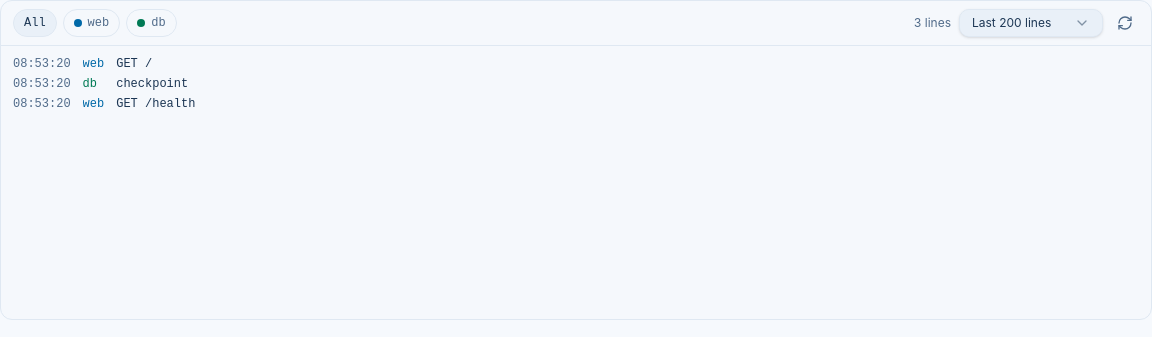
it: LogsView › filters by container with chips when there are several
The image size is (1152, 337).
Check: the text "3 lines" is shown, box x1=914 y1=15 x2=951 y2=31
Click the button "web" at (91, 23), box x1=63 y1=9 x2=120 y2=37
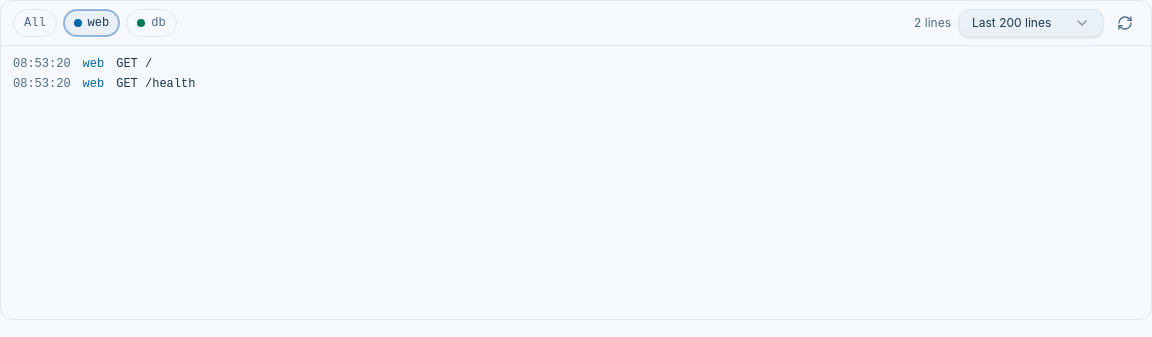
Check: the element named "Logs" shows "GET /health", box x1=116 y1=77 x2=195 y2=91
Check: the element named "Logs" no longer shows "checkpoint", box x1=116 y1=57 x2=195 y2=91
Check: the text "2 lines" is shown, box x1=914 y1=15 x2=951 y2=31
Click the button "All" at (35, 23), box x1=13 y1=9 x2=57 y2=37
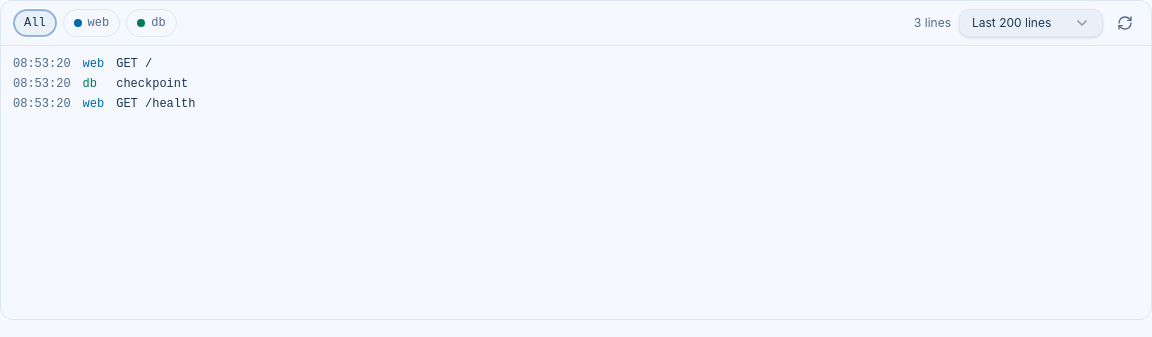
Check: the element named "Logs" shows "checkpoint", box x1=116 y1=77 x2=188 y2=91
